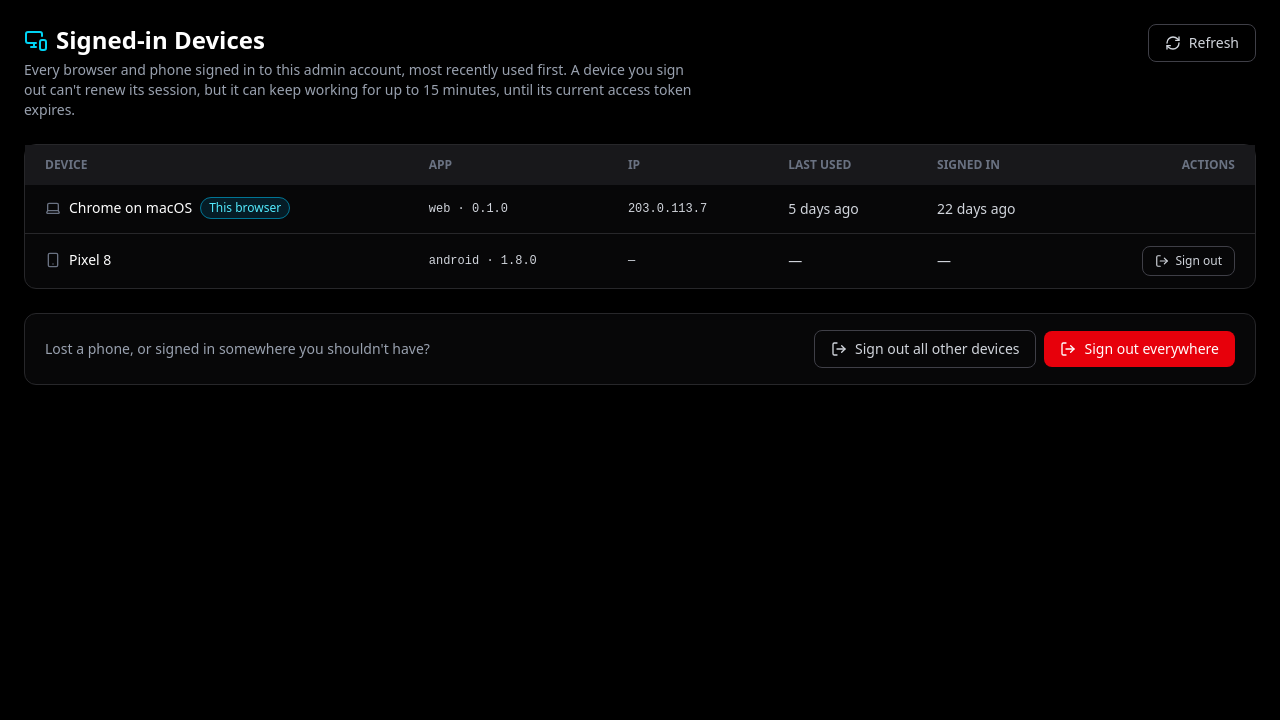
Scenario: DevicesSection › drops a device that was already signed out
Click the button with aria-label "Sign out Pixel 8" at (1189, 261), box [1142, 246, 1235, 276]
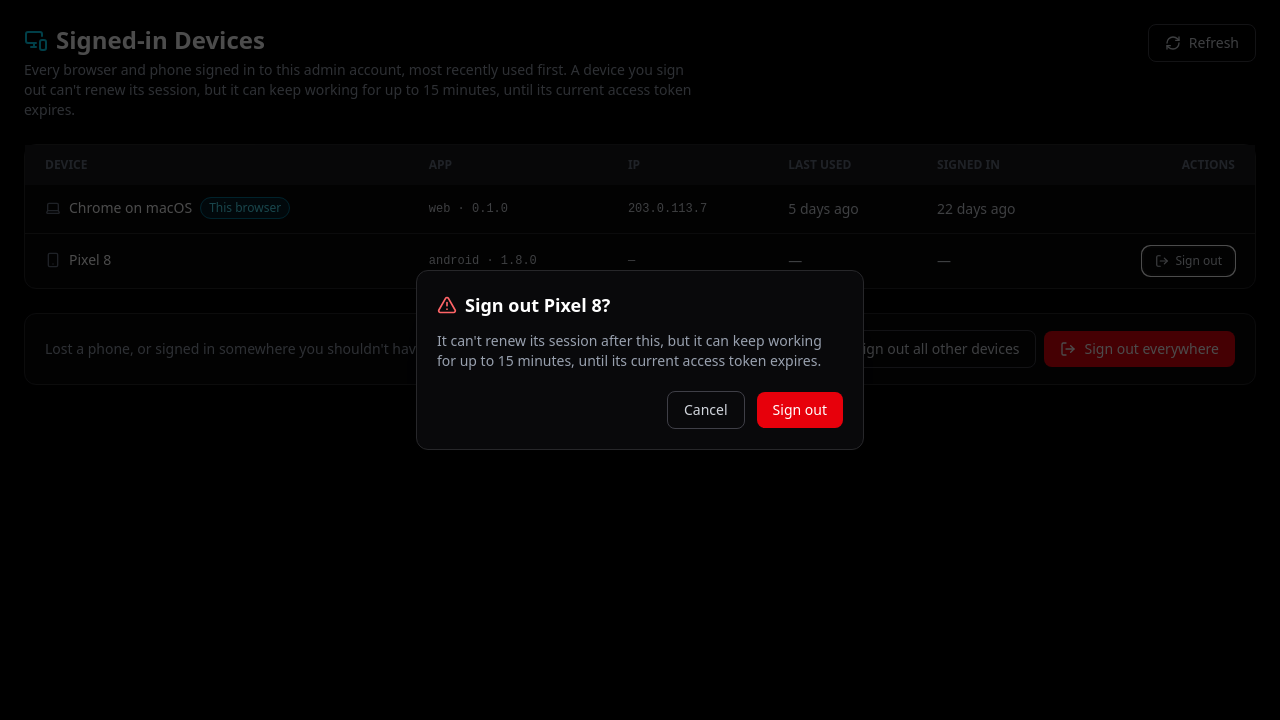
Click the button "Sign out" at (800, 410), box [757, 392, 843, 428]
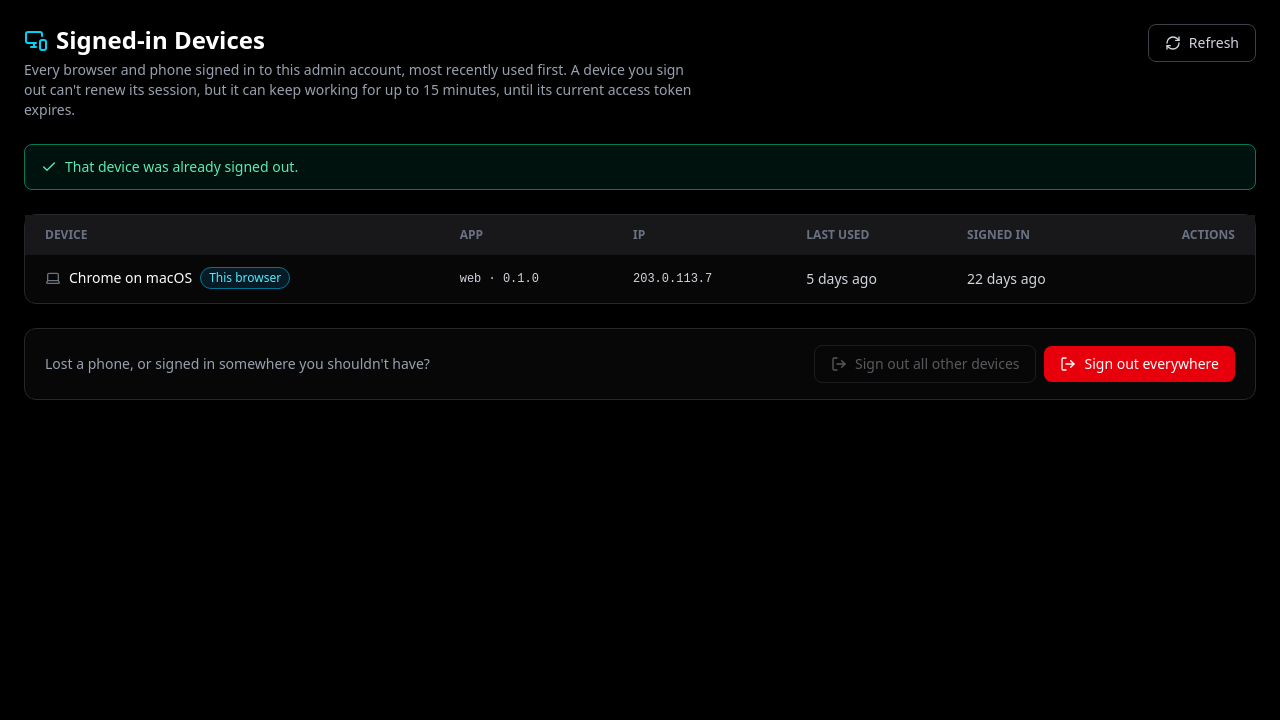
Check: the text "That device was already signed out." is shown, box [24, 144, 1256, 190]
Check: the text "Pixel 8" is gone
Check: the dialog is gone
